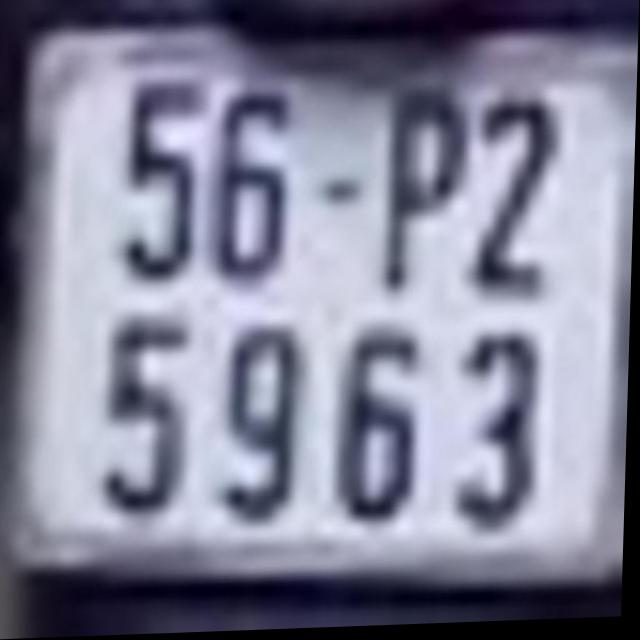2: (473, 94, 560, 301)
3: (448, 323, 547, 531)
5: (104, 306, 204, 518), (123, 72, 207, 279)
6: (347, 310, 420, 526), (214, 88, 292, 276)
9: (218, 301, 306, 533)
P: (375, 78, 468, 300)
